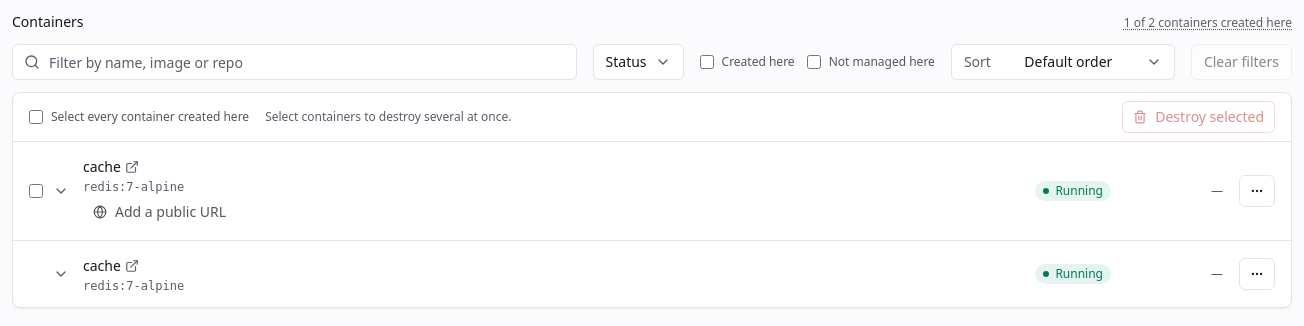
Test case: ContainerList › the usage total › adds up only the containers this app created
This screenshot has width=1304, height=326.
Step 1. Hover over the button "1 of 2 containers created here" → (1208, 23), box [1124,15,1292,31]
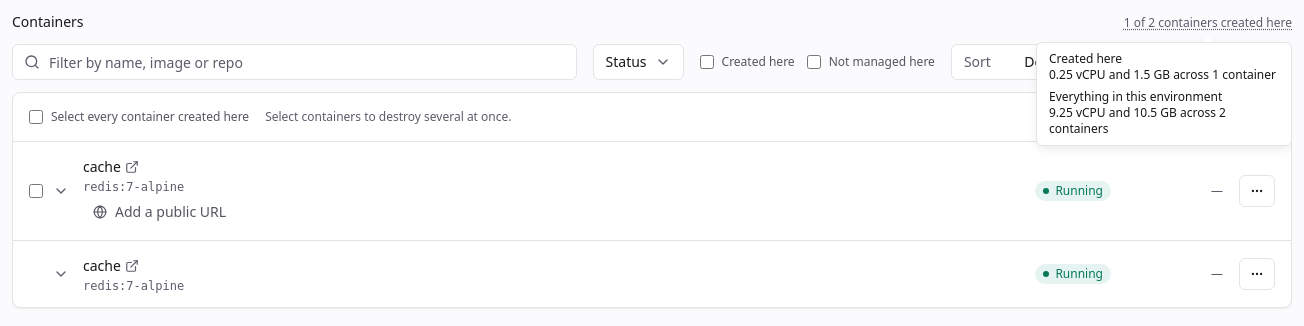
Now the 2nd text "Created here" is shown, box [1049,50,1122,67]
Now the text "0.25 vCPU and 1.5 GB across 1 container" is shown, box [1049,67,1279,83]
